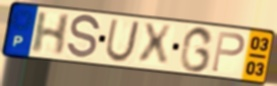G: (177, 25, 215, 74)
H: (29, 11, 73, 57)
P: (209, 30, 246, 74)
S: (65, 13, 102, 61)
U: (103, 18, 142, 64)
X: (137, 22, 174, 68)
